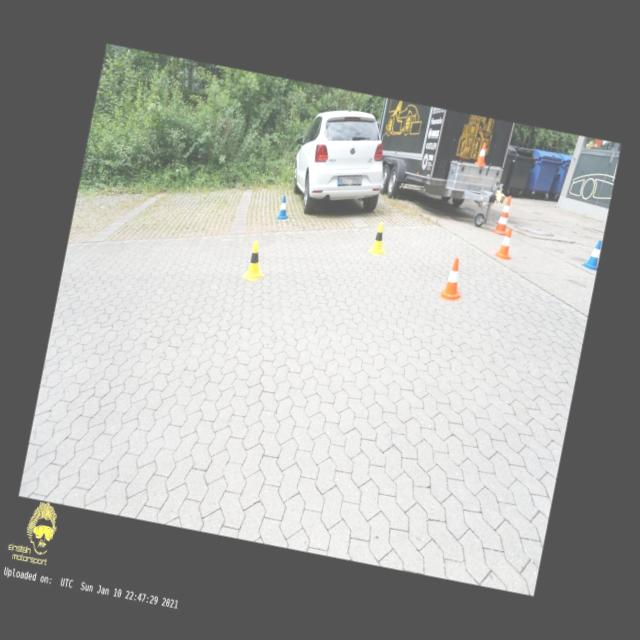blue_cone: (580, 238, 602, 270), (277, 195, 292, 220)
large_orange_cone: (492, 194, 514, 235)
orange_cone: (440, 256, 468, 302), (495, 226, 516, 260), (474, 142, 489, 166)
yellow_cone: (241, 238, 269, 282), (367, 220, 391, 256)
